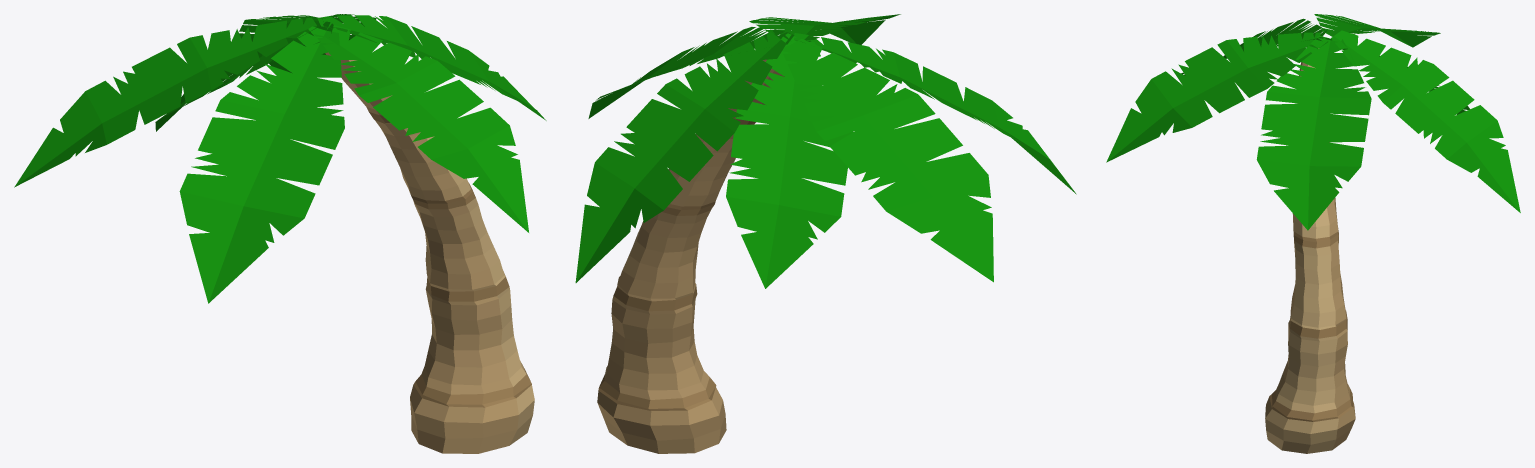
Rendered from PalmTree.glb.
3 renders of one model, left to right at view 1: azimuth 30°, elevation 25°; view 2: azimuth 150°, elevation 25°; view 3: azimuth 270°, elevation 25°, orthographic. The views are drawn at different scales.
Visible parts, largest first — view 1: PalmShapeVariant_low_swept_bent; view 2: PalmShapeVariant_low_swept_bent; view 3: PalmShapeVariant_low_swept_bent.
Boxes of the visible parts, x1,y1,x2,y2 form: PalmShapeVariant_low_swept_bent: (14,14,546,453); PalmShapeVariant_low_swept_bent: (575,14,1076,453); PalmShapeVariant_low_swept_bent: (1106,14,1520,453).
Bounding box in the file's own units: 4.77 × 4.24 × 4.56.
